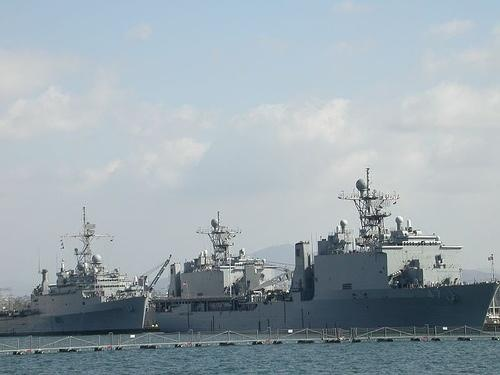boat: (157, 169, 500, 334), (1, 206, 172, 337)
